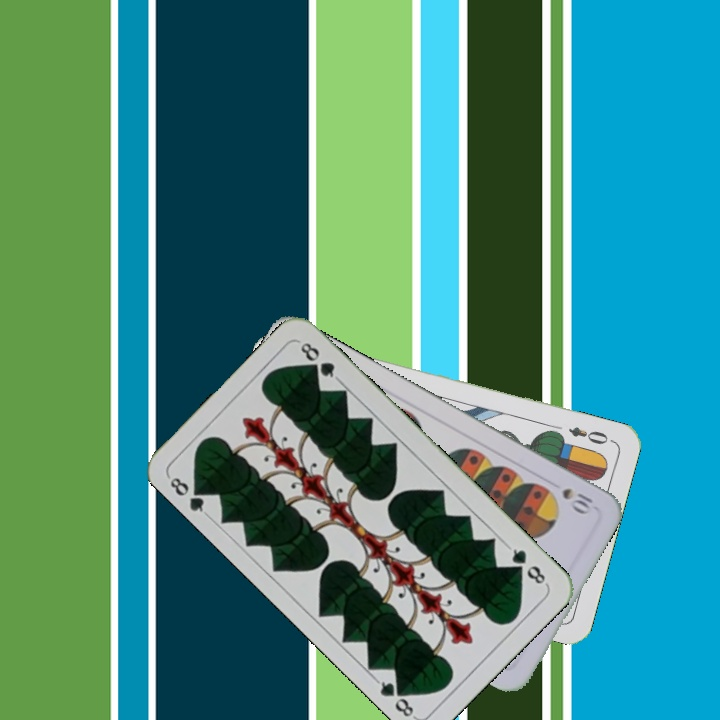EO: (564, 422, 611, 447)
G8: (164, 472, 211, 519), (503, 542, 550, 588)
S10: (558, 483, 596, 517)
